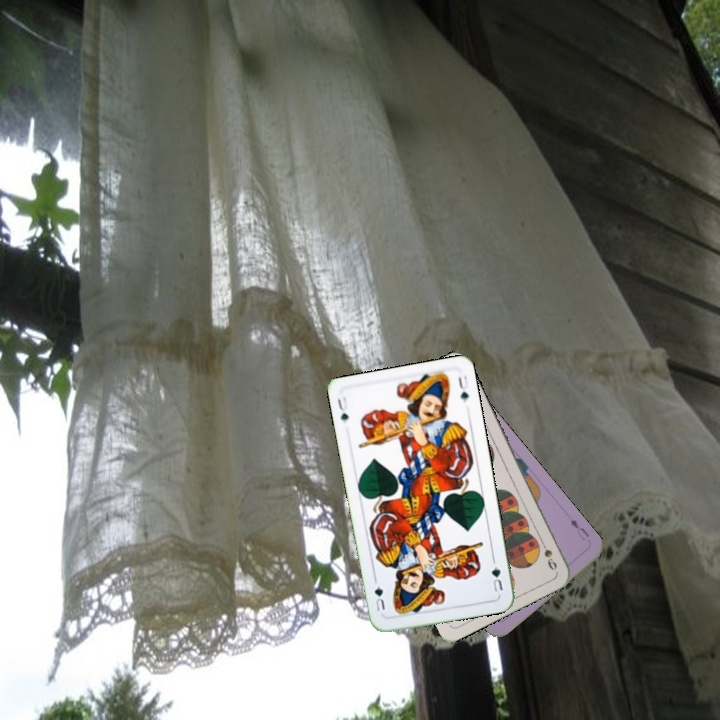EU: (566, 515, 592, 543)
GU: (487, 556, 505, 594), (333, 393, 351, 424)
S9: (536, 535, 560, 573)
